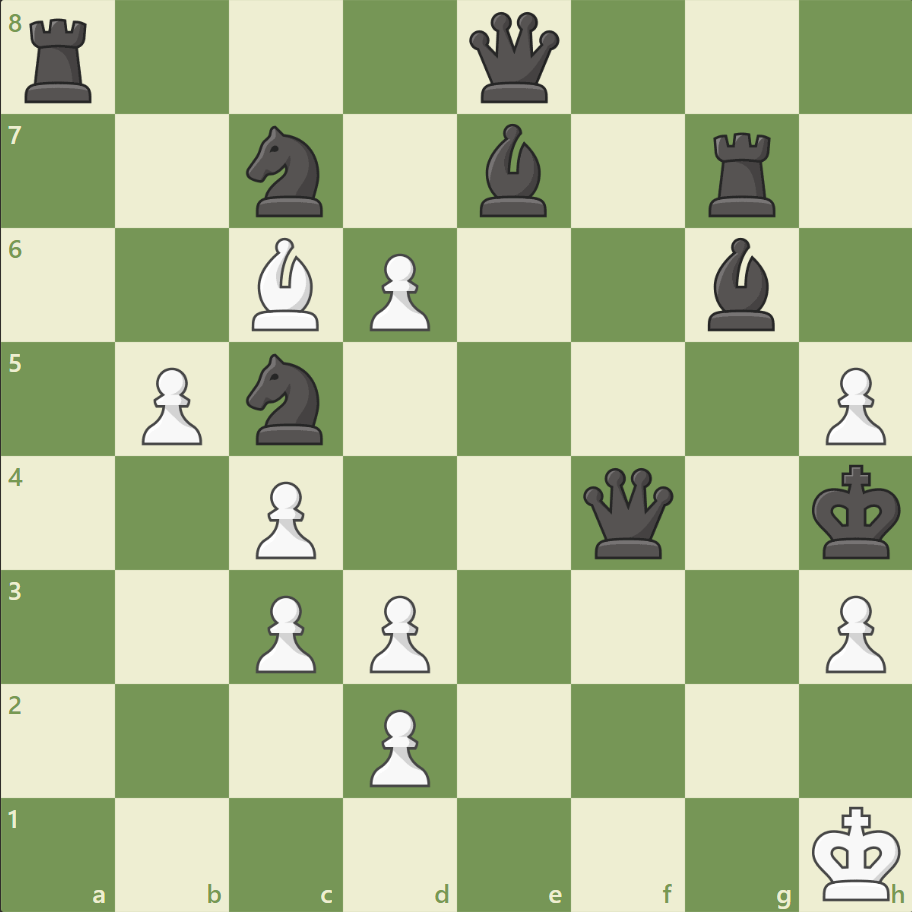B: (244, 233, 328, 336)
K: (806, 798, 906, 906)
P: (133, 359, 208, 450), (247, 473, 322, 564), (247, 586, 322, 677), (361, 246, 435, 337), (815, 359, 889, 450), (361, 586, 435, 677), (815, 586, 889, 677), (361, 700, 435, 791)
b: (698, 233, 782, 336), (471, 120, 555, 222)
k: (806, 458, 906, 566)
n: (238, 121, 335, 223), (238, 348, 335, 450)
q: (464, 9, 563, 108), (578, 463, 677, 562)
r: (19, 12, 102, 109), (700, 125, 783, 222)
